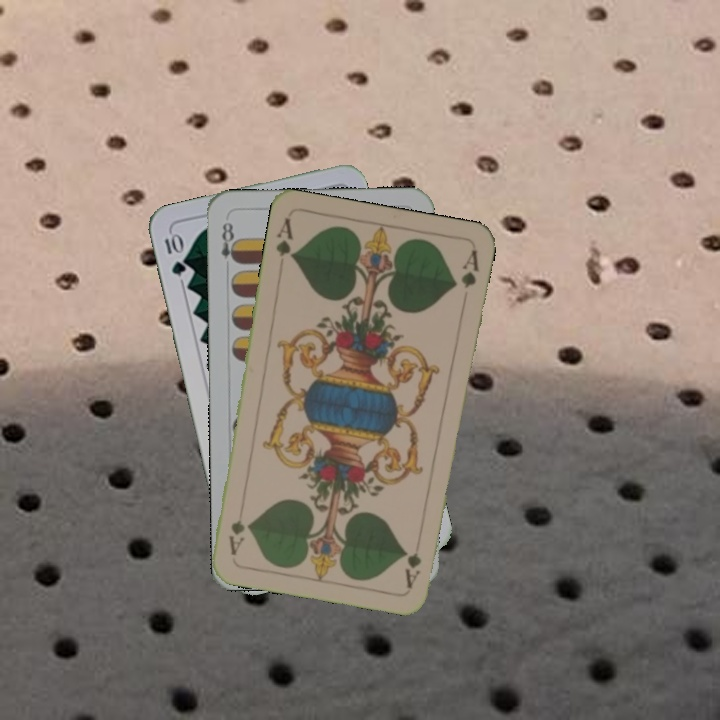E8: (217, 218, 241, 274)
G10: (160, 229, 188, 278)
GA: (271, 213, 297, 261), (401, 539, 424, 590)
